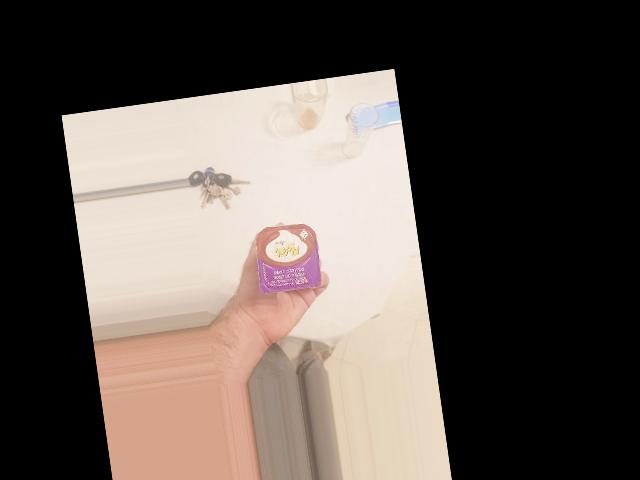milky: (316, 168, 394, 247)
